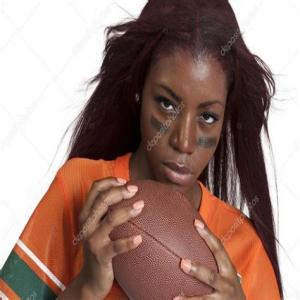Rugby: (105, 177, 218, 300)
